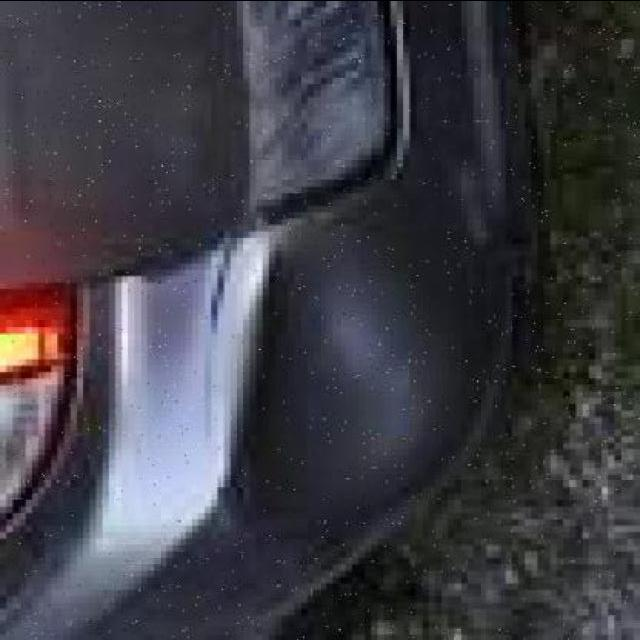rear-bumper-dent: (65, 6, 558, 640)
